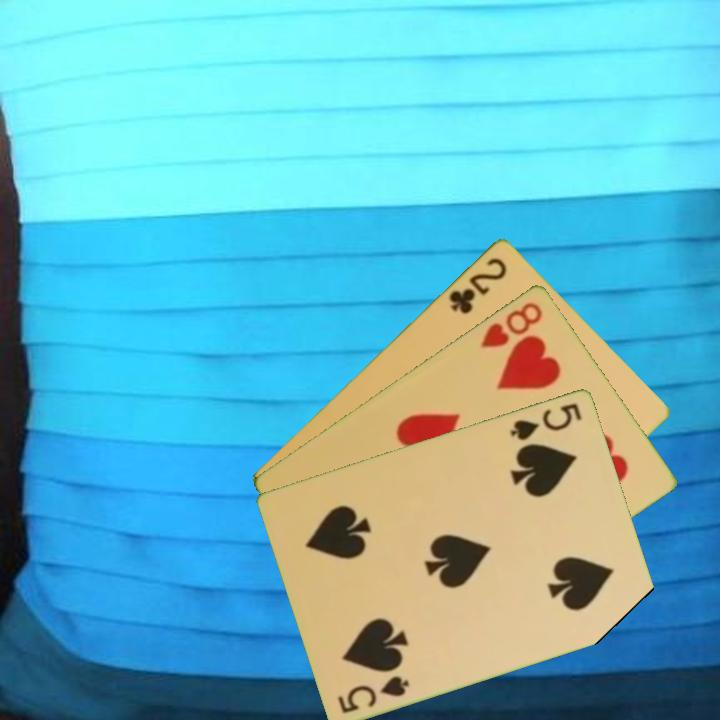2c: (445, 253, 510, 317)
5s: (334, 671, 413, 716), (507, 399, 585, 443)
8h: (477, 298, 546, 350)
